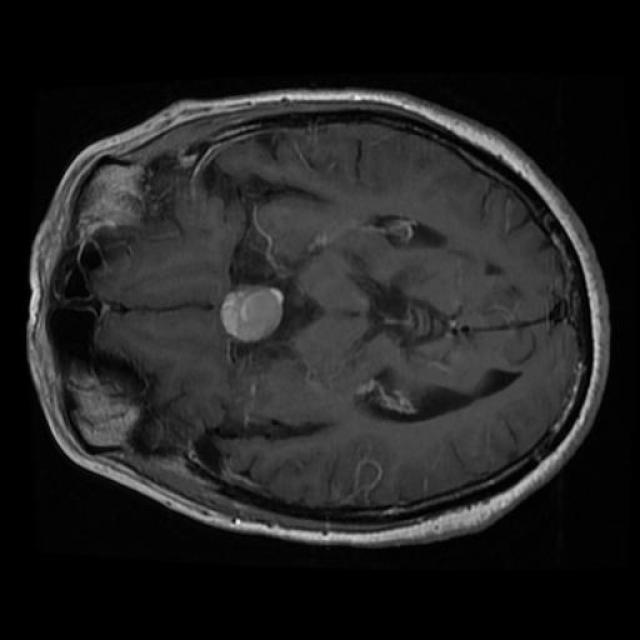Pituitary: (220, 285, 284, 343)
